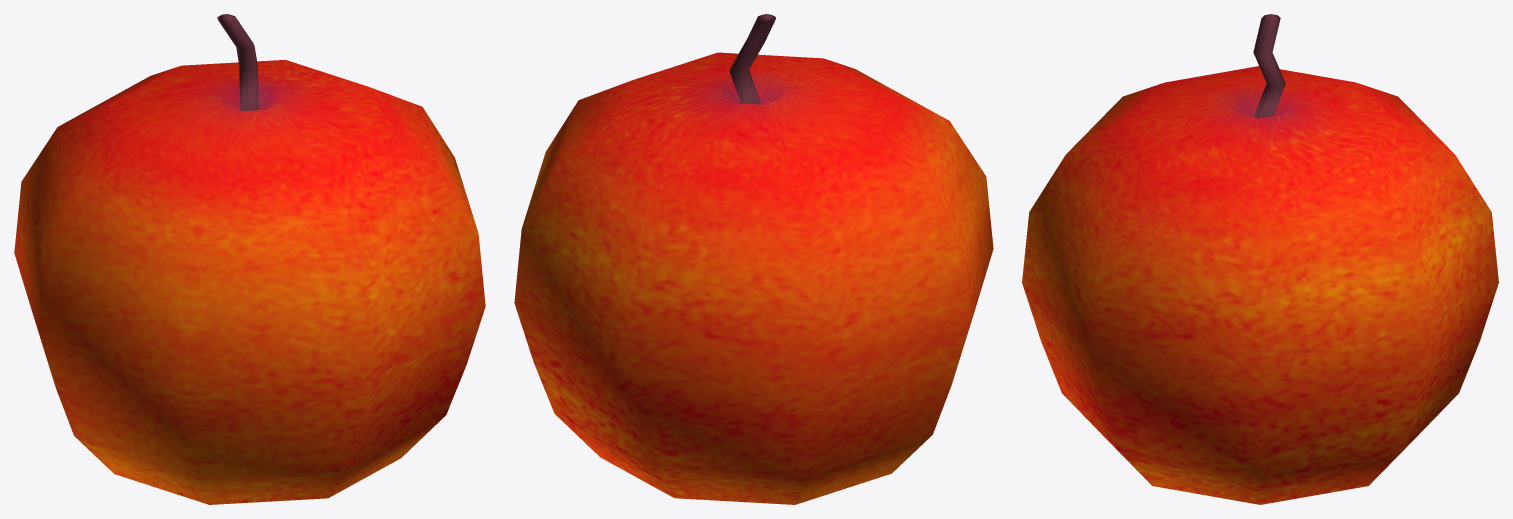
File: Apple.fbx
3 views of the same model, side by side, from view 1: azimuth 30°, elevation 25°; view 2: azimuth 150°, elevation 25°; view 3: azimuth 270°, elevation 25° (orthographic). The views are drawn at different scales.
Parts seen in each view (by area): view 1: pSphere1; view 2: pSphere1; view 3: pSphere1.
Boxes of the visible parts, x1,y1,x2,y2 form: pSphere1: [14, 14, 485, 504]; pSphere1: [514, 14, 993, 504]; pSphere1: [1022, 14, 1498, 504].
Bounding box in the file's own units: 8.84 × 8.98 × 8.84.
Materials: 1 (1 with a texture image).
